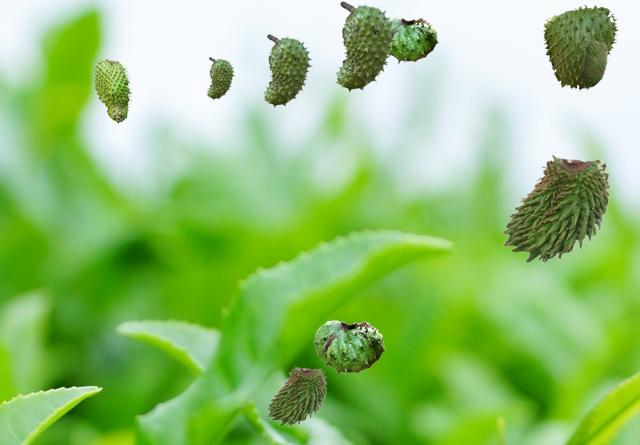guyabano: (501, 153, 610, 262), (543, 4, 618, 91), (334, 1, 396, 92), (313, 320, 384, 375), (262, 34, 312, 107), (266, 365, 326, 425), (93, 58, 131, 122), (389, 17, 437, 63), (580, 40, 607, 86), (206, 57, 234, 99)
